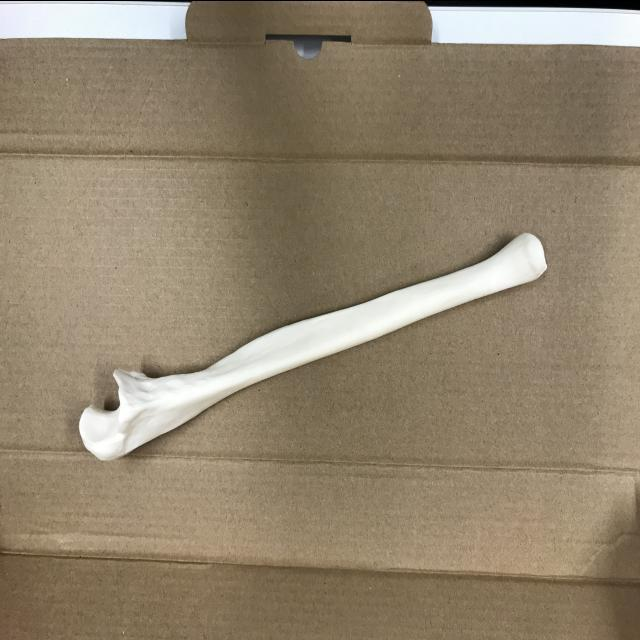bone: (74, 227, 558, 466)
